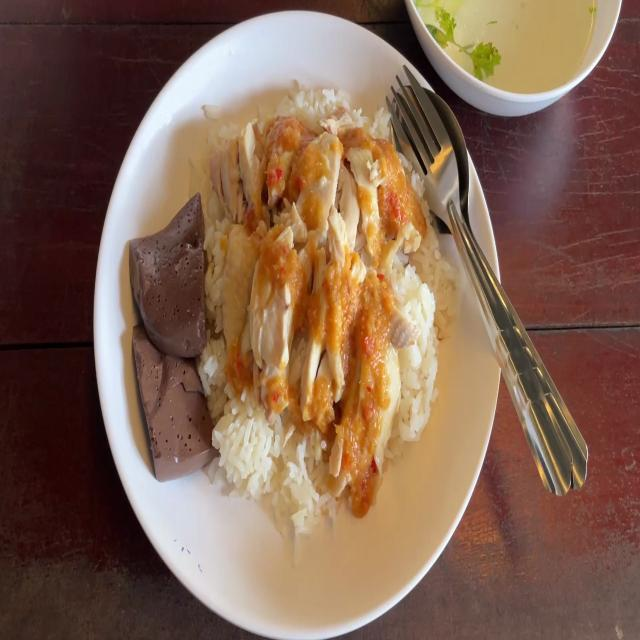boiled_chicken: (216, 124, 406, 477)
boiled_chicken_blood_jelly: (130, 310, 212, 478), (124, 193, 208, 352)
chicken_rice: (118, 71, 467, 552)
